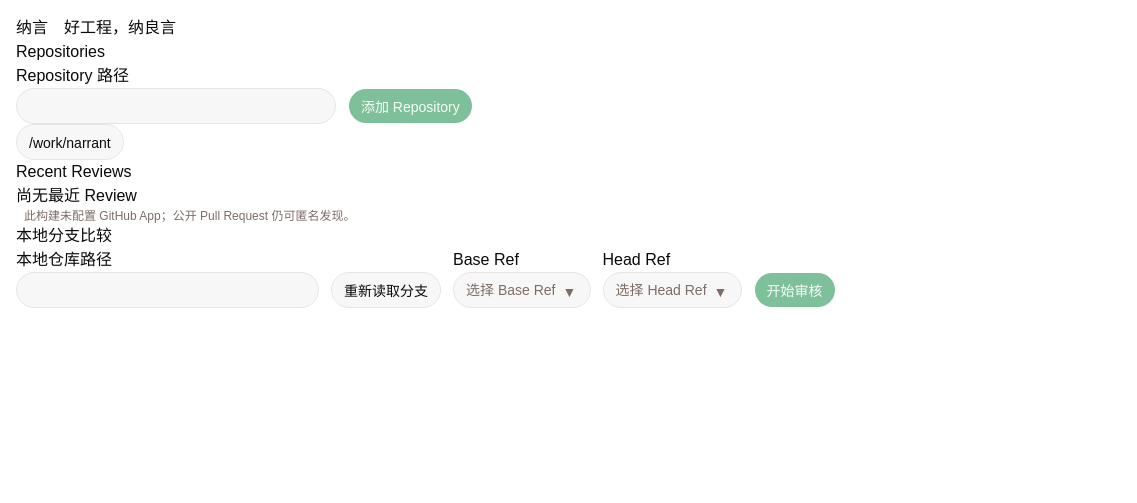
Test: App › 扁平展示多个 GitHub repository 的 Pull Requests，且保留局部失败
Click the button "/work/narrant".
click(70, 142)  # box [16,124,124,160]
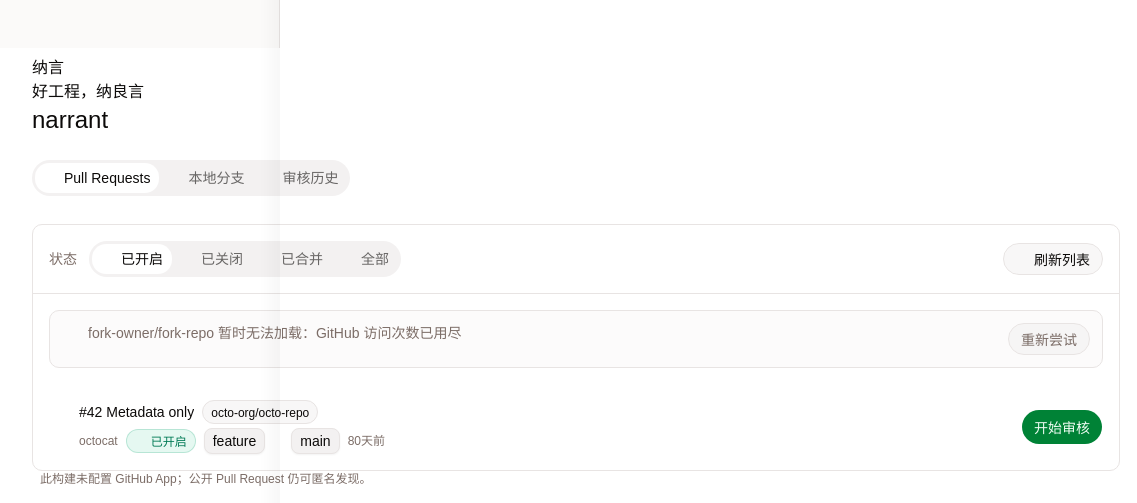
Now the text "#42 Metadata only" is shown, box [79,402,194,422]
Now the text "octo-org/octo-repo" is shown, box [202,400,318,424]
Now the text "fork-owner/fork-repo 暂时无法加载：GitHub 访问次数已用尽" is shown, box [88,325,461,341]
